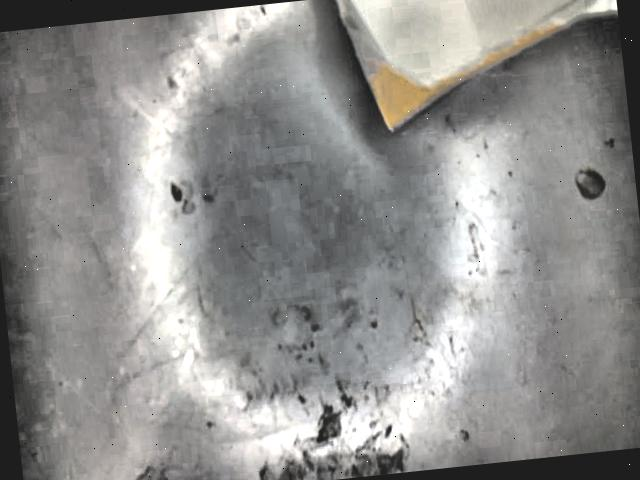Paper: (334, 0, 618, 129)
